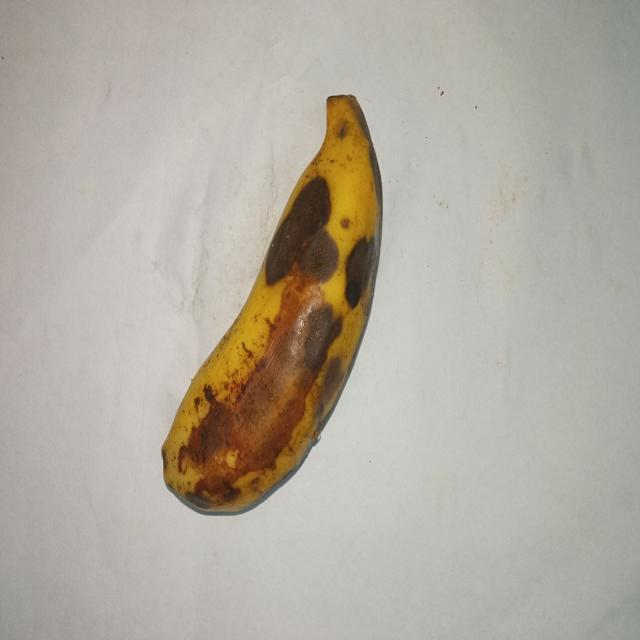rotten_banana: (162, 96, 384, 518)
